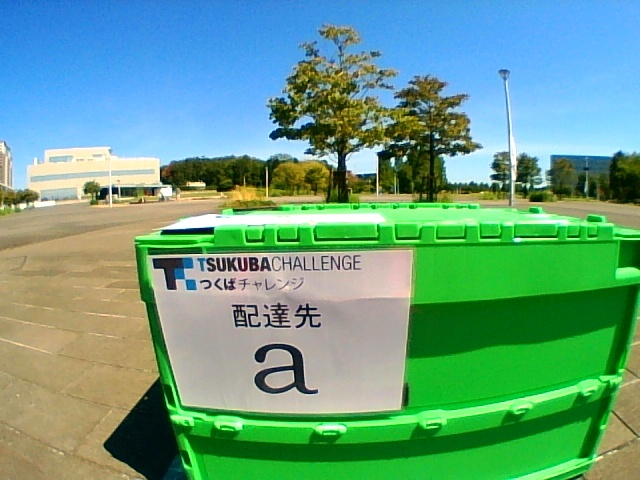green_box: (135, 204, 640, 480)
tag_a: (182, 256, 400, 405)
